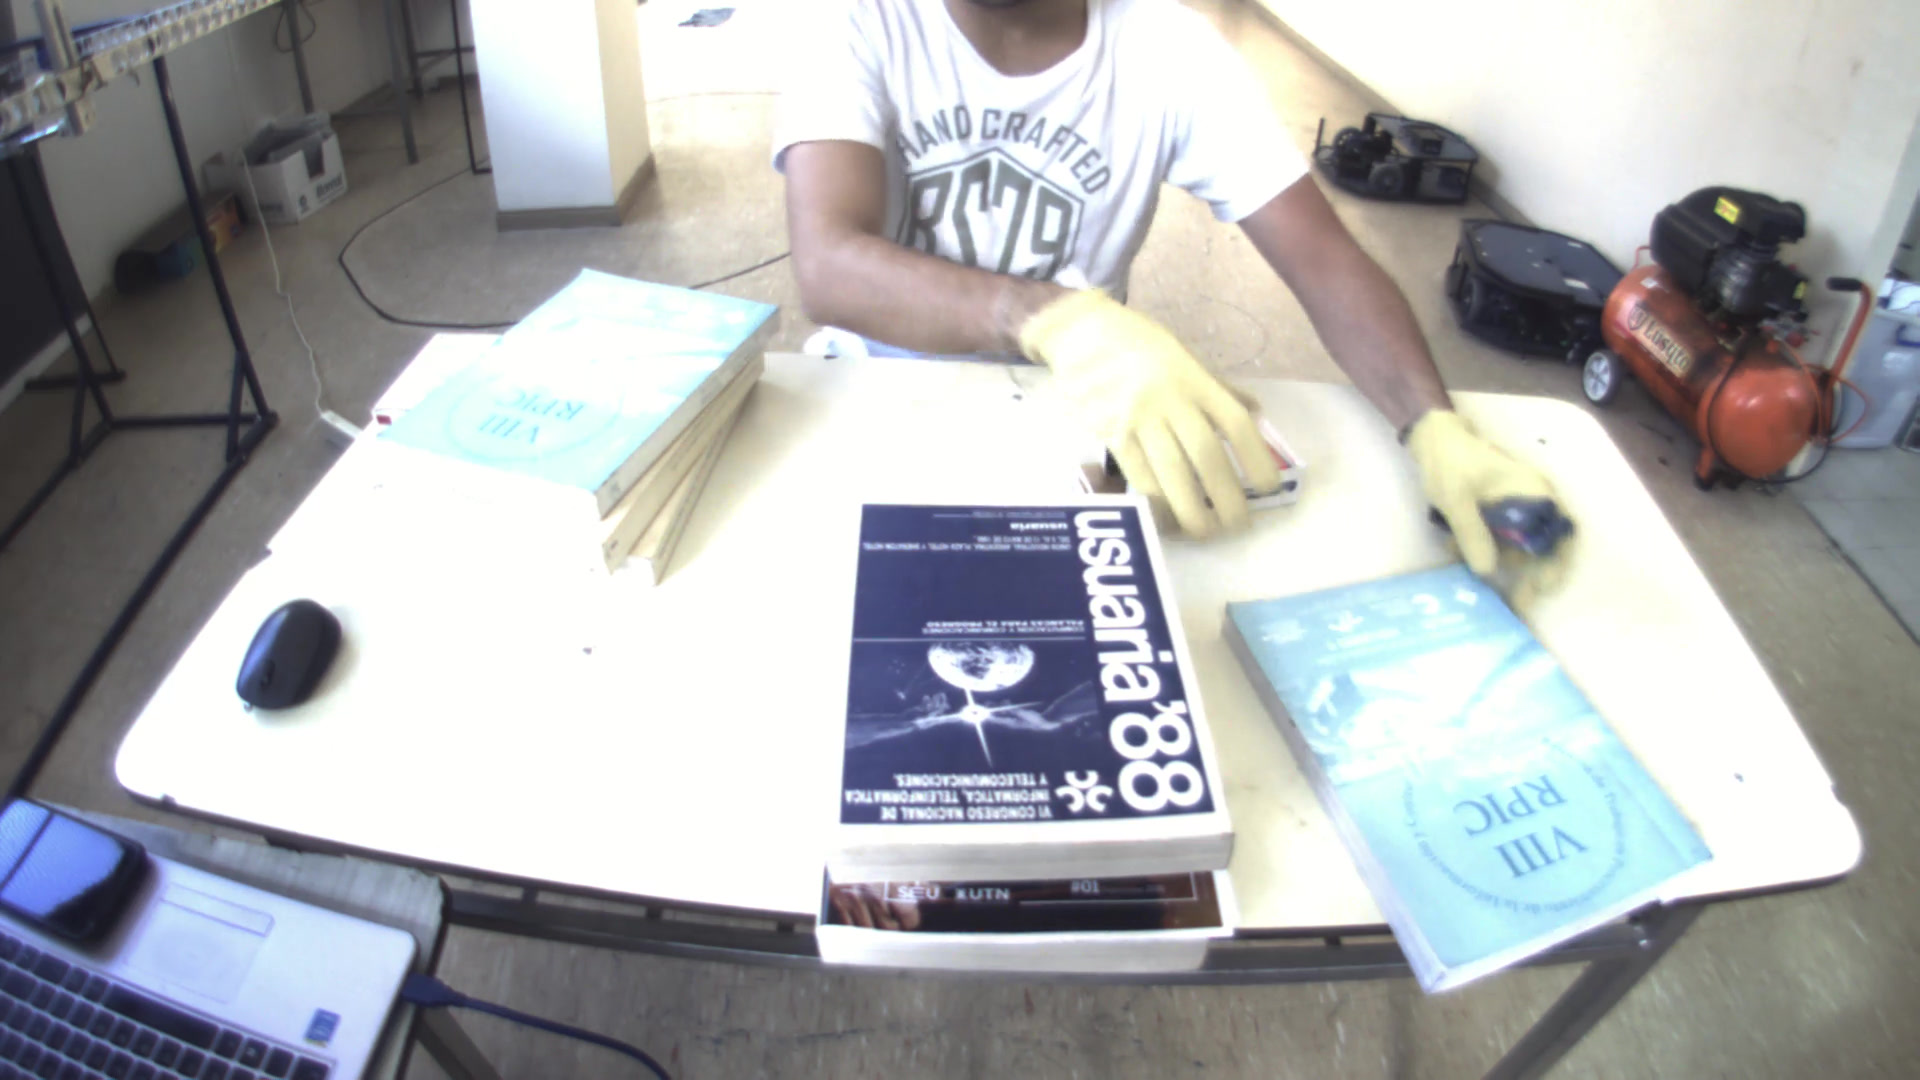hand: (1010, 273, 1309, 535), (1396, 400, 1568, 615)
